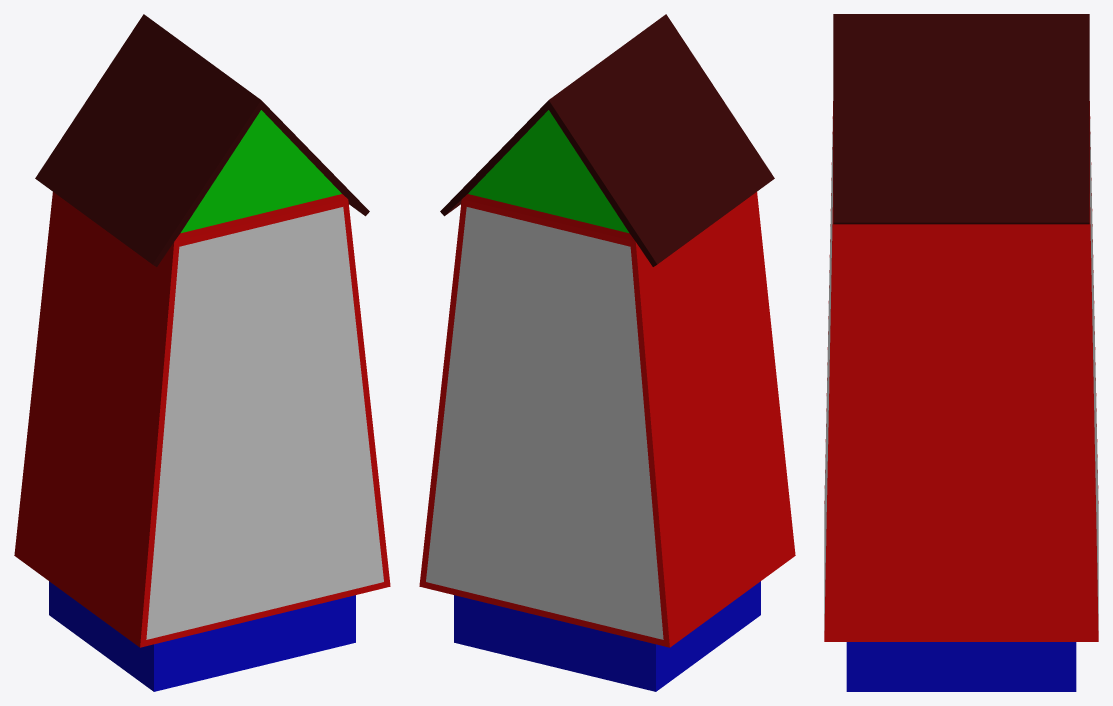
Rendered from FBX_Windmill_01.fbx.
3 views of the same model, side by side, from view 1: azimuth 30°, elevation 25°; view 2: azimuth 150°, elevation 25°; view 3: azimuth 270°, elevation 25° (orthographic). The views are drawn at different scales.
Parts seen in each view (by area): view 1: Windmill_01; view 2: Windmill_01; view 3: Windmill_01.
Part boxes in pixels (box(x1,y1,x2,y2)): Windmill_01: box(14, 14, 390, 691); Windmill_01: box(419, 14, 795, 691); Windmill_01: box(824, 14, 1098, 691).
Size of the model in its own units: 138 by 301 by 120.
